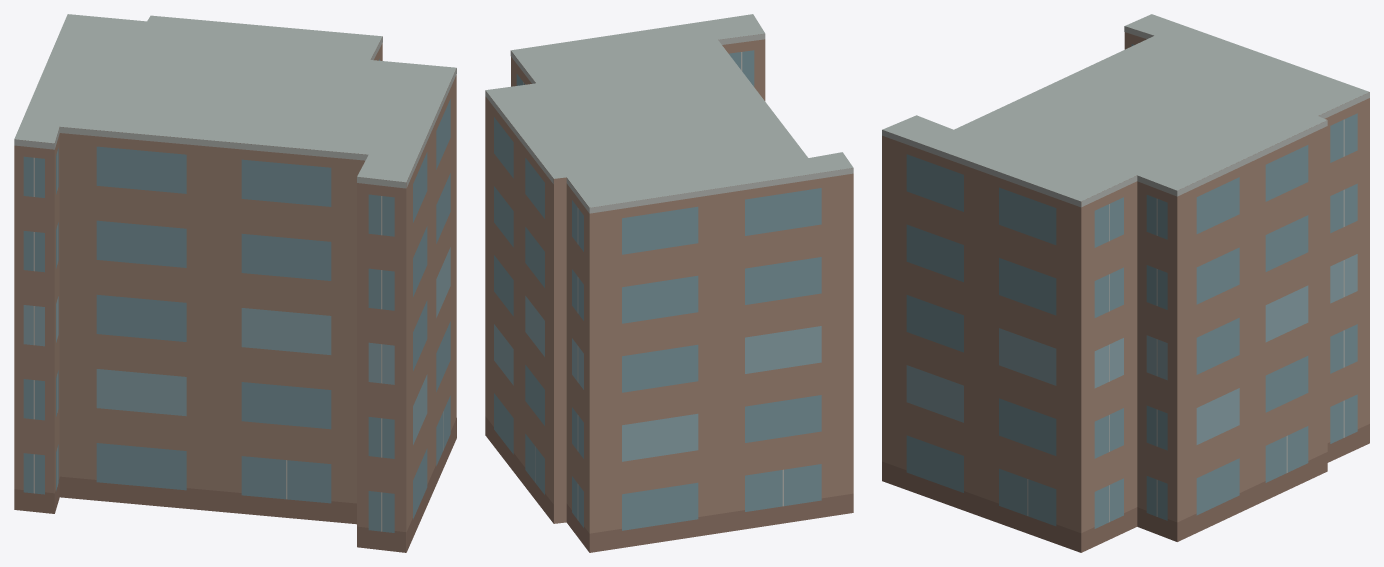
The model's file is survey-upis-32526019.glb.
3 views of the same model, side by side, from view 1: azimuth 30°, elevation 25°; view 2: azimuth 150°, elevation 25°; view 3: azimuth 270°, elevation 25° (orthographic). The views are drawn at different scales.
Visible parts, largest first — view 1: survey-upis-32526019.tmp; view 2: survey-upis-32526019.tmp; view 3: survey-upis-32526019.tmp.
Part boxes in pixels (x1=…): survey-upis-32526019.tmp: x1=14, y1=14, x2=456, y2=552; survey-upis-32526019.tmp: x1=485, y1=14, x2=853, y2=552; survey-upis-32526019.tmp: x1=882, y1=14, x2=1369, y2=552.
Bounding box in the file's own units: 16.6 × 14.5 × 18.25.
